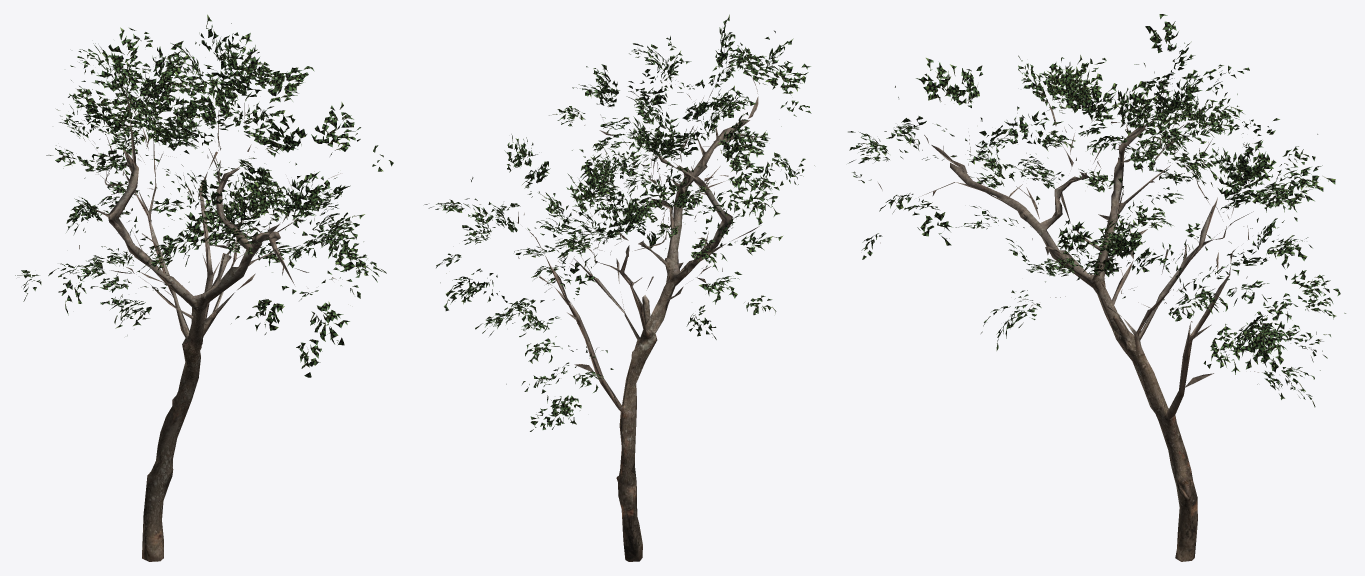
Rendered from tree_small_02.glb.
The picture shows the model from 3 angles, left to right: view 1: azimuth 30°, elevation 25°; view 2: azimuth 150°, elevation 25°; view 3: azimuth 270°, elevation 25°; orthographic projection. The views are drawn at different scales.
Visible parts, largest first — view 1: tree_small_02_LOD0; view 2: tree_small_02_LOD0; view 3: tree_small_02_LOD0.
Part boxes in pixels (x1,y1,x2,y2): tree_small_02_LOD0: (15, 14, 393, 561); tree_small_02_LOD0: (424, 14, 814, 561); tree_small_02_LOD0: (848, 14, 1345, 561).
Bounding box in the file's own units: 2.87 × 4.53 × 4.1.
3 materials, 3 textured.
